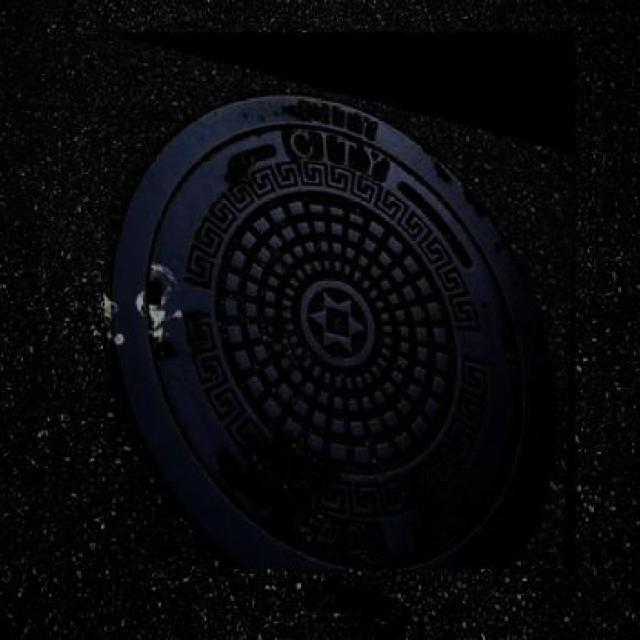Manhole: (104, 32, 576, 570)
